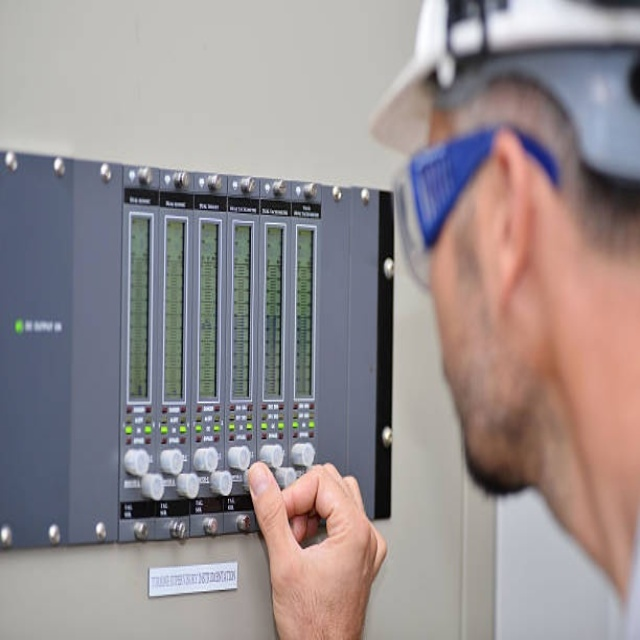Gafas: (394, 124, 566, 297)
Sin_guantes: (245, 456, 387, 640)
